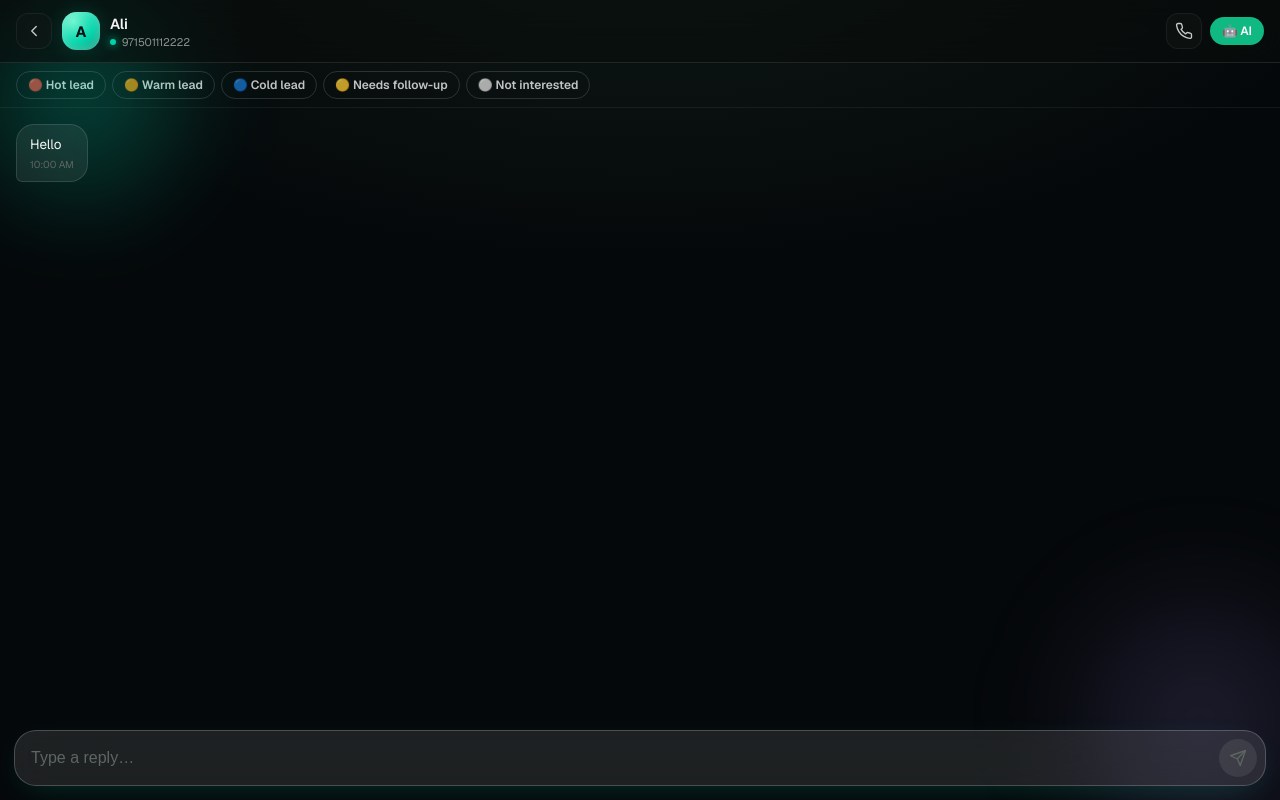
ChatThread › sends a reply
expect the text "Hello" is shown: met, box [30, 135, 61, 153]
In the field with placeholder "Type a reply…": [621, 758] box [31, 741, 1211, 775], type "On our way"
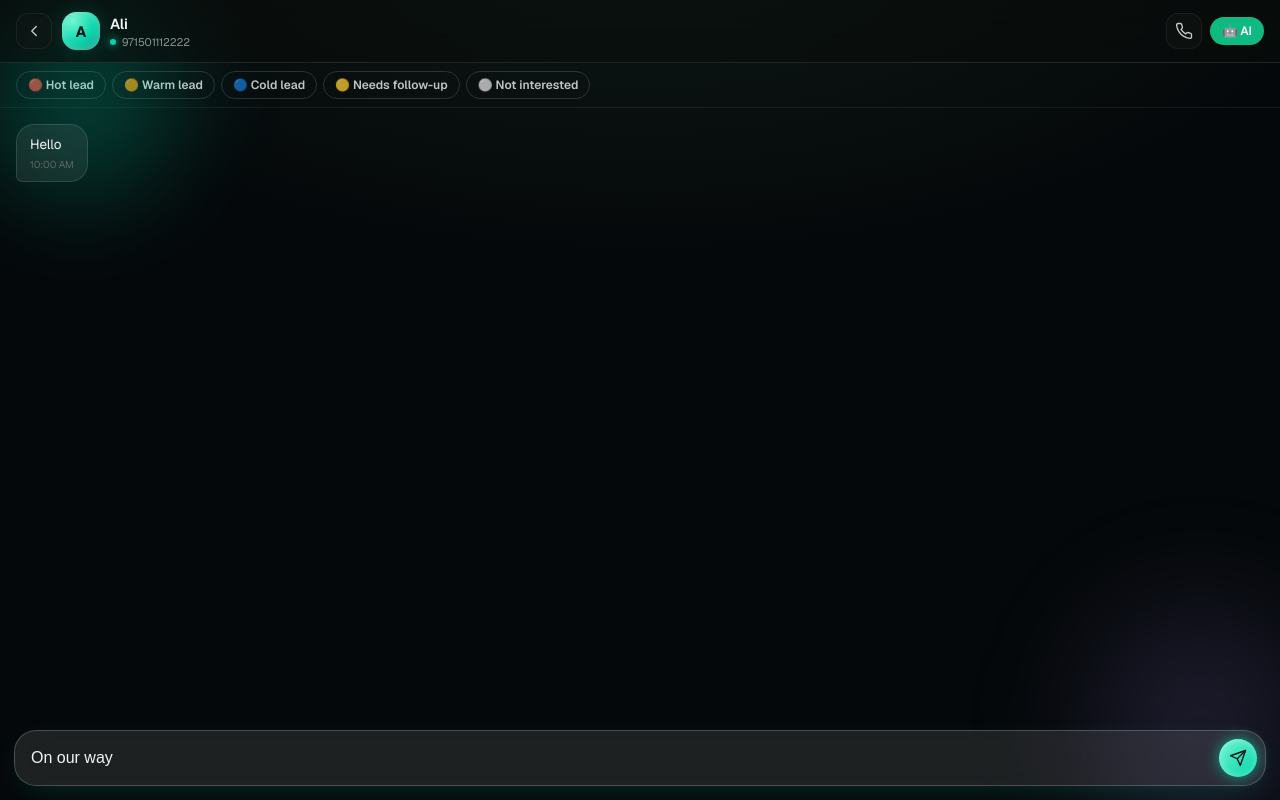
Click the button named "send": [1238, 758] box [1219, 739, 1257, 777]
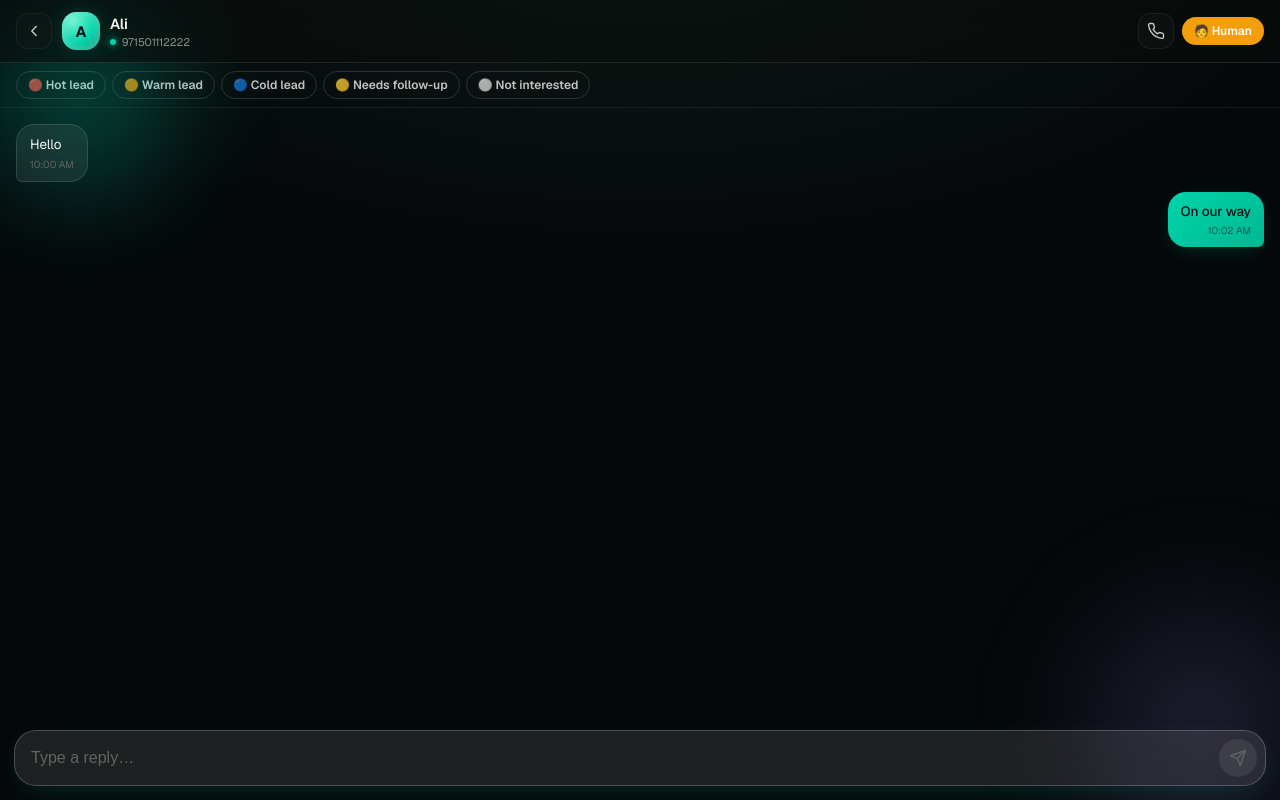
expect the text "On our way" is shown: met, box [1180, 202, 1251, 221]
